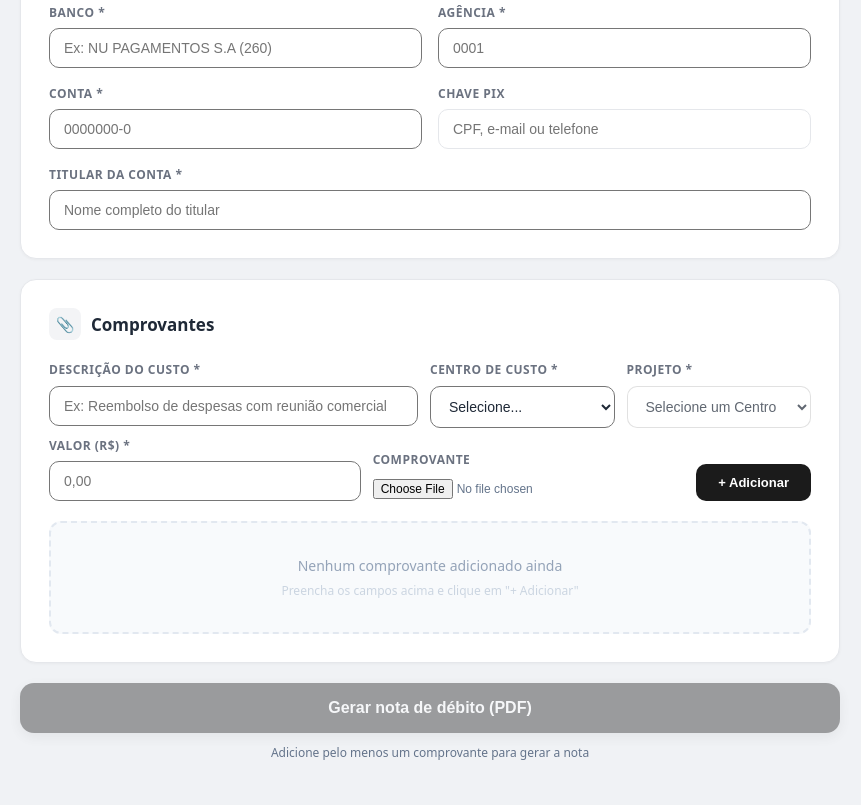
Scenario: App — geração da nota › não gera o PDF quando os dados do solicitante estão vazios
The image size is (861, 805).
(page scrolled)
Type "Uber" into the field with placeholder "Ex: Reembolso de despesas com reunião comercial" at (234, 406), box [49,386,418,426]
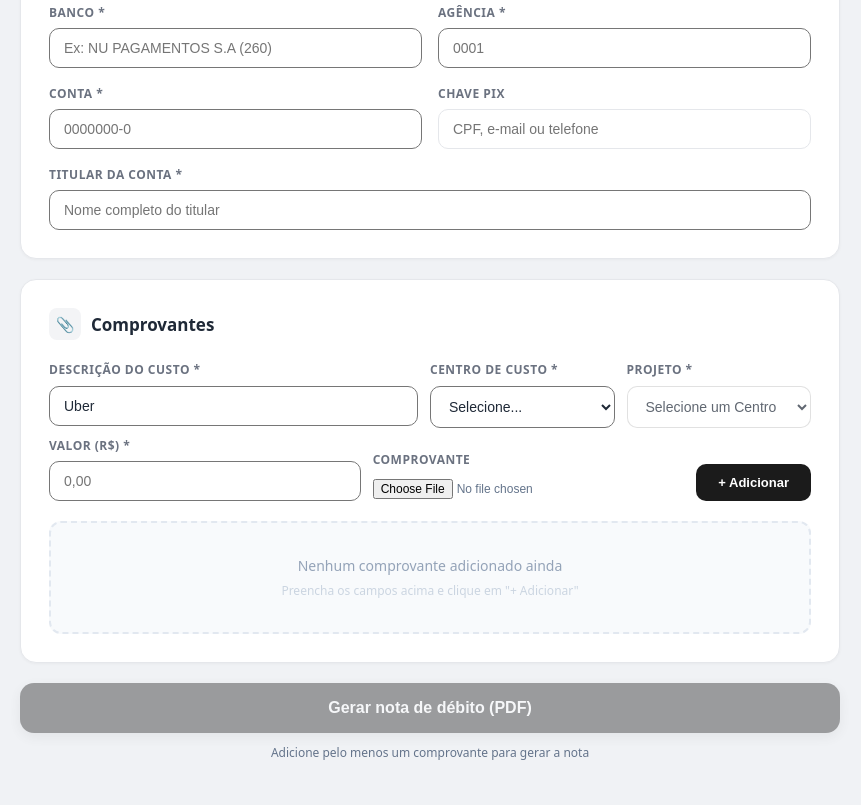
Select "AI Lab" in the dropdown named "Centro de custo" at (522, 406), box [430,386,614,428]
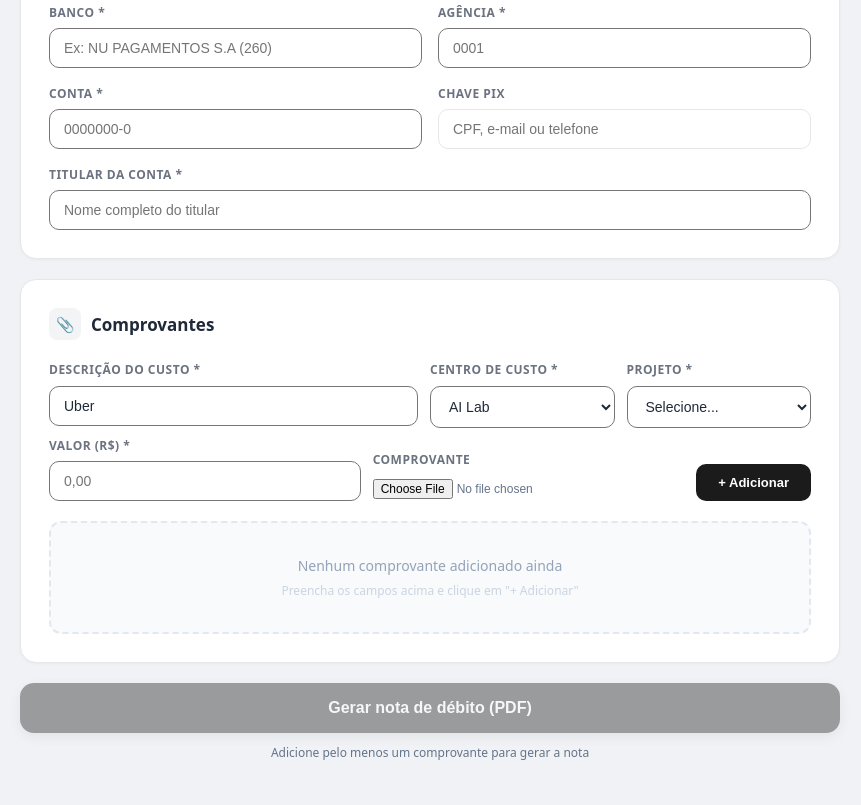
Select "BID - Reforma Tributária" in the dropdown named "Projeto" at (719, 406), box [626,386,811,428]
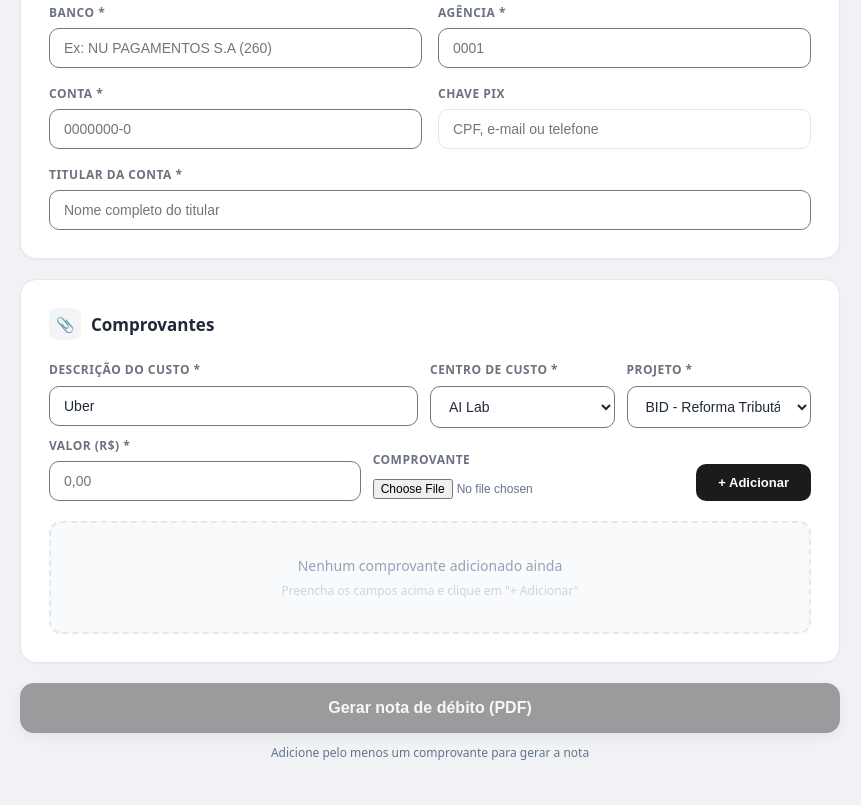
Type "50" into the number field with placeholder "0,00" at (205, 481), box [49,461,361,501]
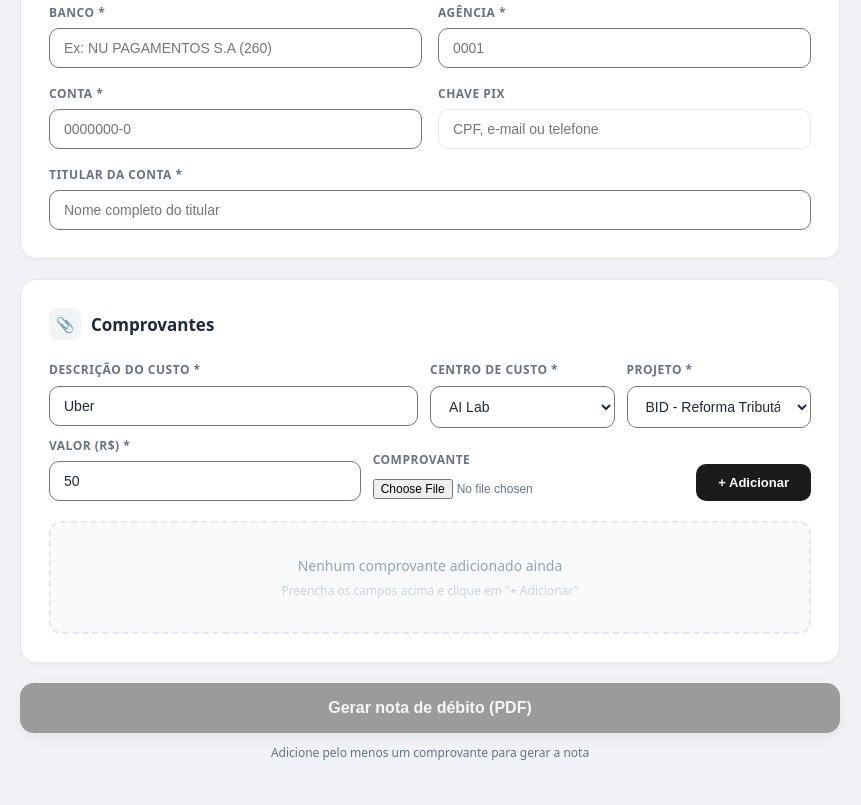
Click the button "+ Adicionar" at (754, 482), box [696,464,811,501]
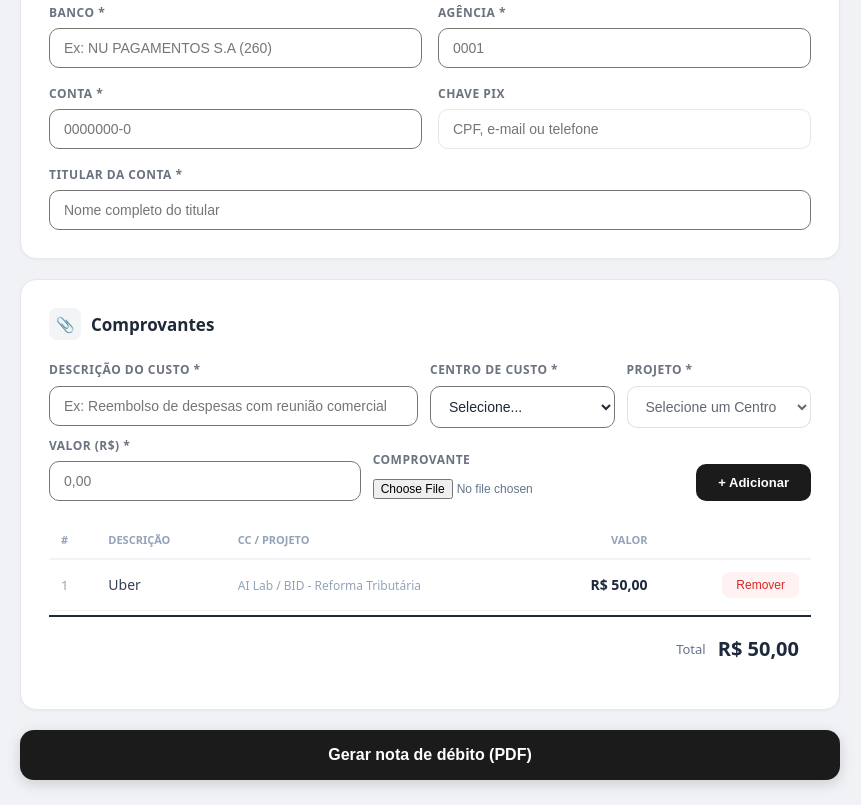
Click the button "Gerar nota de débito (PDF)" at (430, 755), box [20,730,840,780]
(page scrolled)
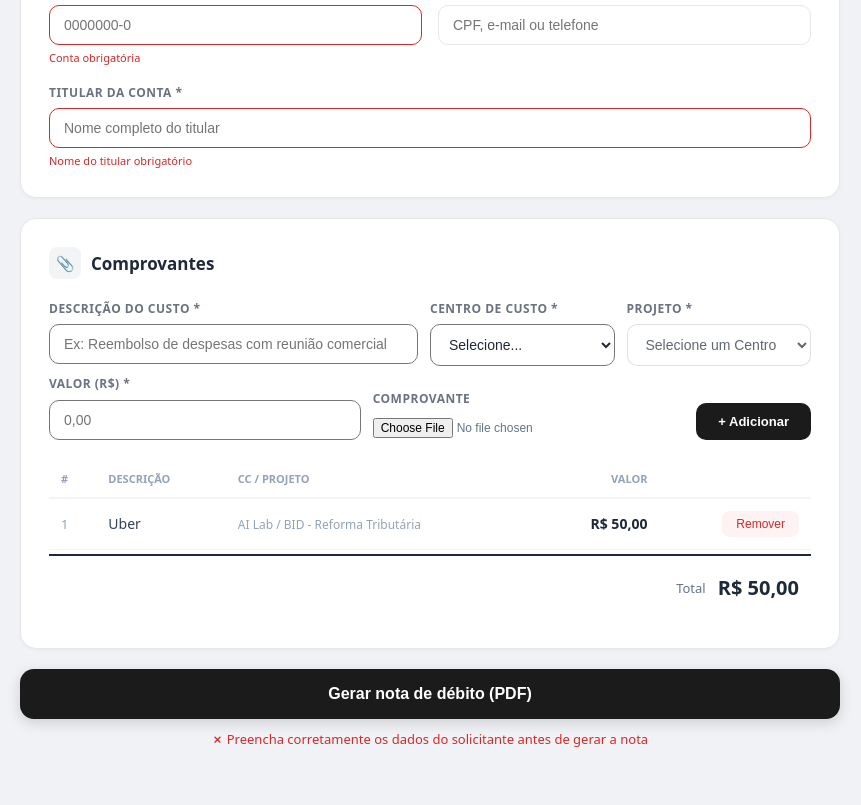
expect the text "Preencha corretamente os dados do solicitante" is shown: met, box [227,730,648,748]
